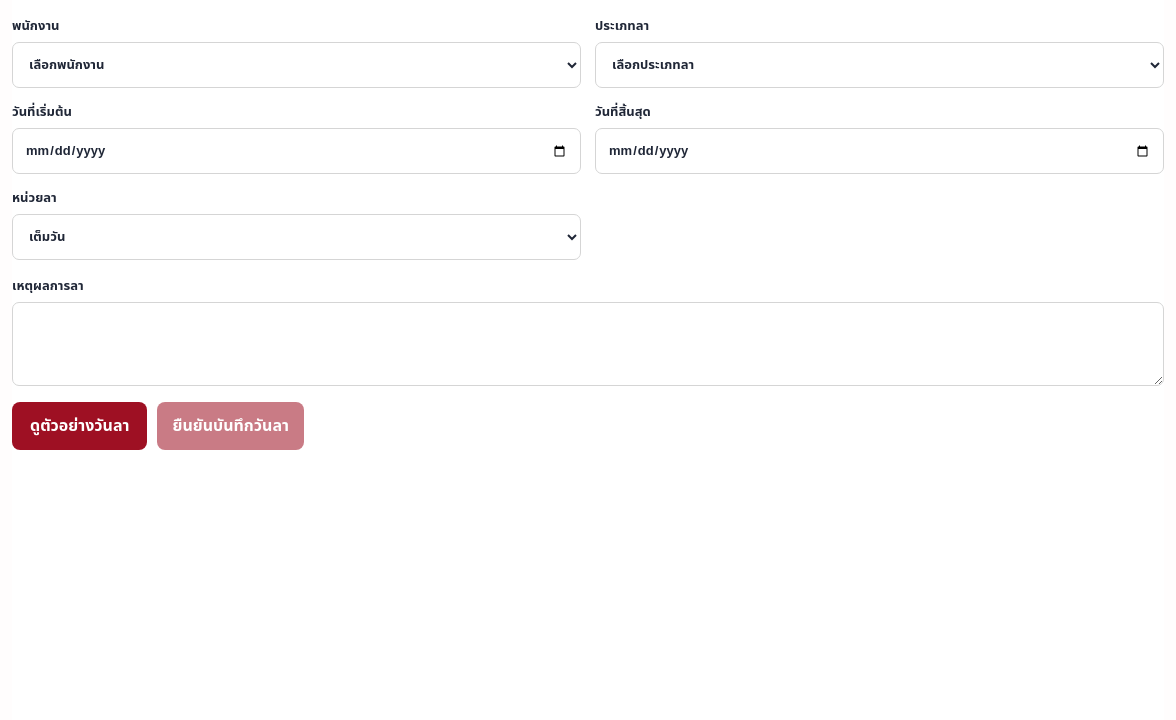
Test: LeaveEntryForm preview gate › shows Thai labels for skipped holidays and weekends
Click the button "ดูตัวอย่างวันลา" at (80, 426), box 12,402 -> 148,450
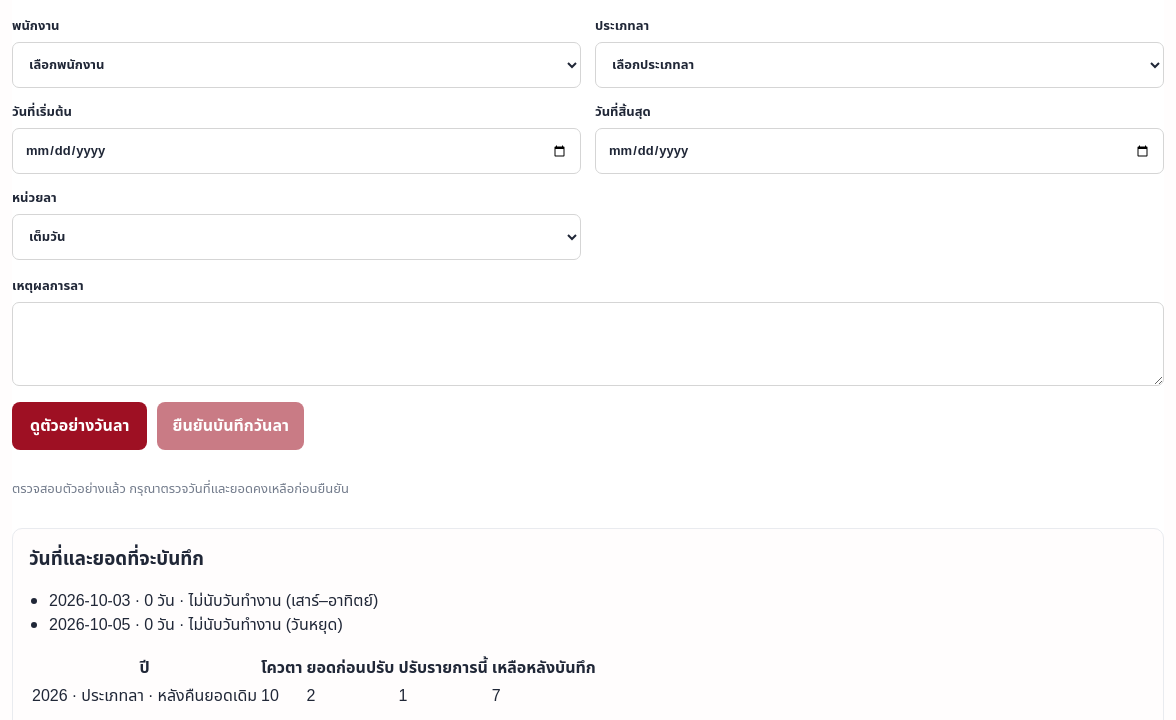
Result: the list item "2026-10-03 · 0 วัน · ไม่นับวันทำงาน (เสาร์–อาทิตย์)" is shown at 49,589 -> 378,613
Result: the list item "2026-10-05 · 0 วัน · ไม่นับวันทำงาน (วันหยุด)" is shown at 49,613 -> 343,637
